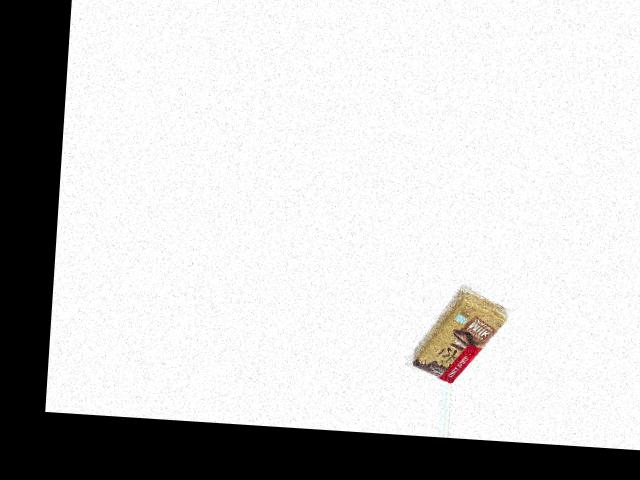chocolate: (409, 284, 521, 385)
